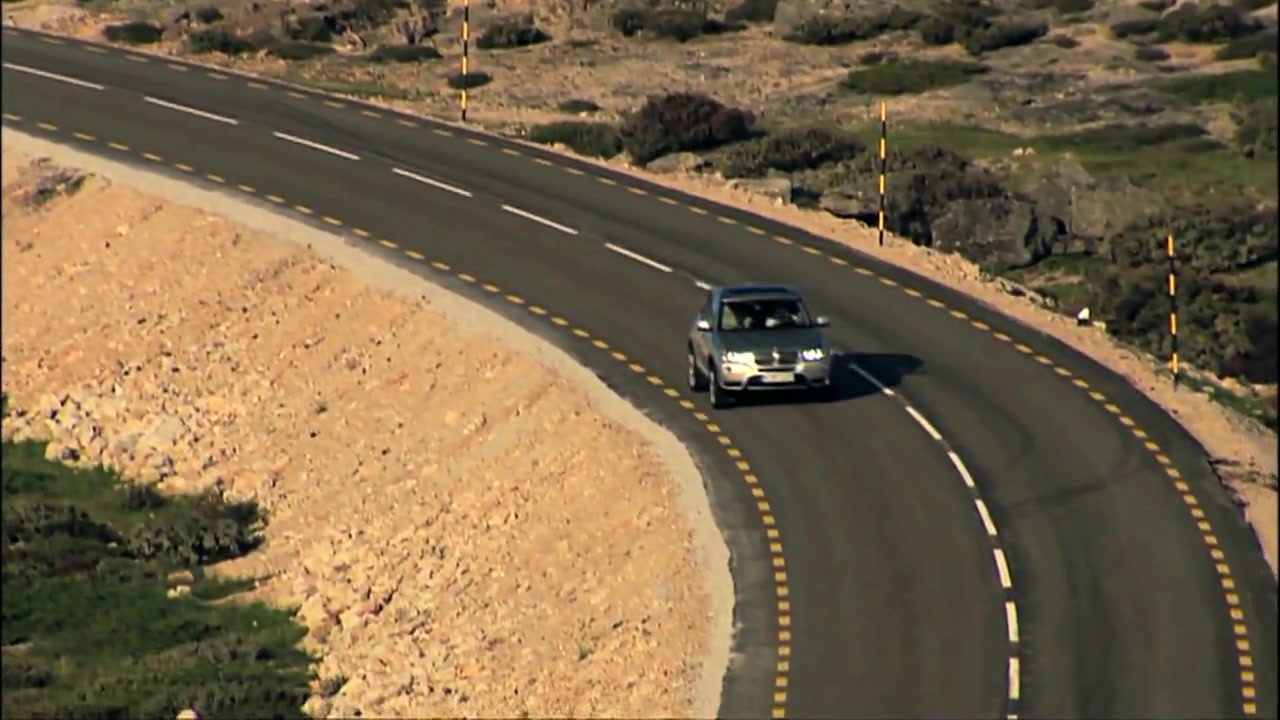car: (683, 282, 840, 406)
